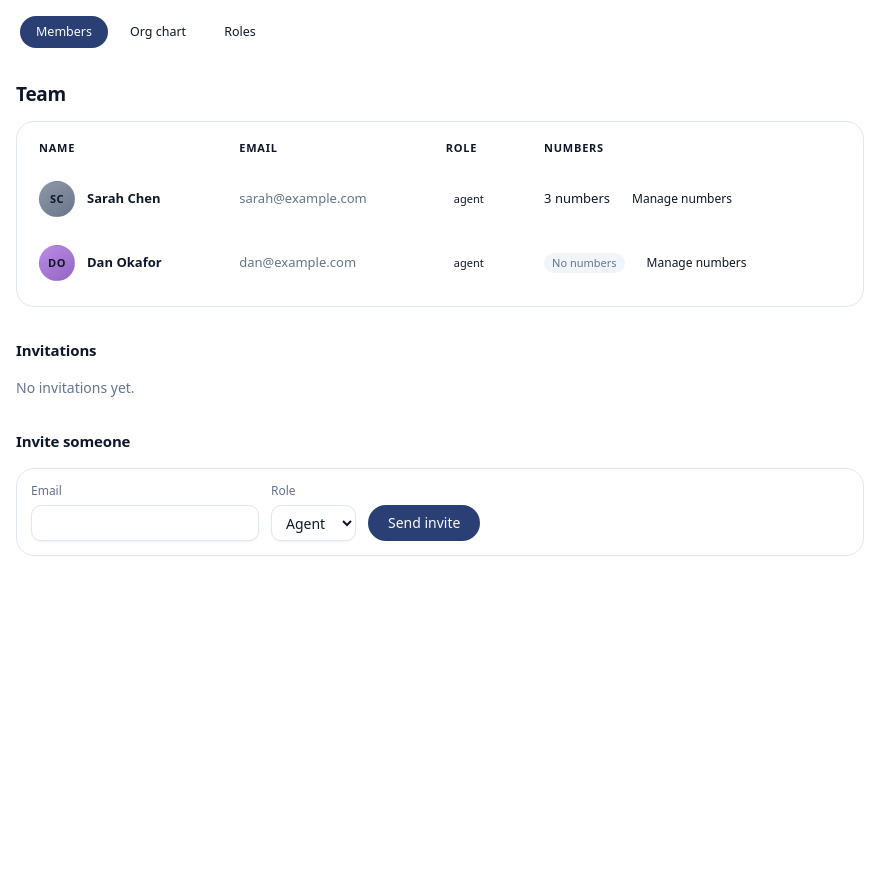
Scenario: TeamPage number assignments › renders a member's current numbers
This screenshot has width=881, height=888.
Expected: the text "sarah@example.com" is shown, [225,170,432,228]
Click the button "Manage numbers" in the row of "SC": (682,199) [618,183,746,215]
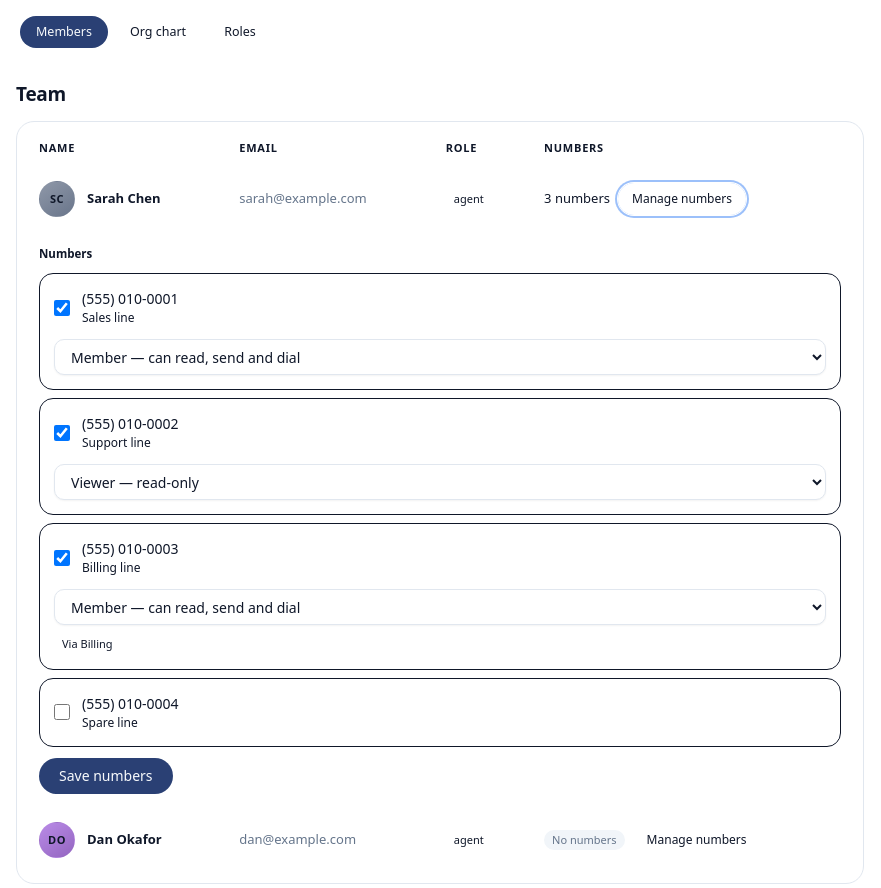
Result: the text "(555) 010-0001" is shown at [82,289,179,308]
Result: the text "(555) 010-0002" is shown at [82,414,179,433]
Result: the text "(555) 010-0003" is shown at [82,539,179,558]
